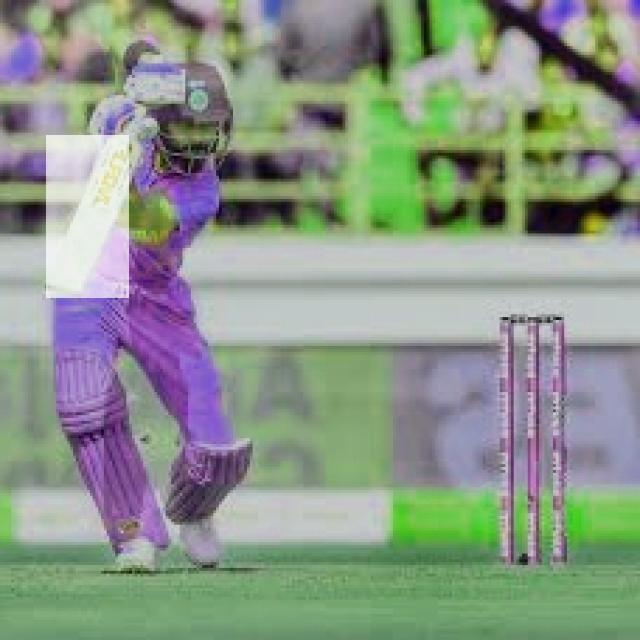bat: (47, 138, 129, 297)
toe: (29, 274, 82, 303)
